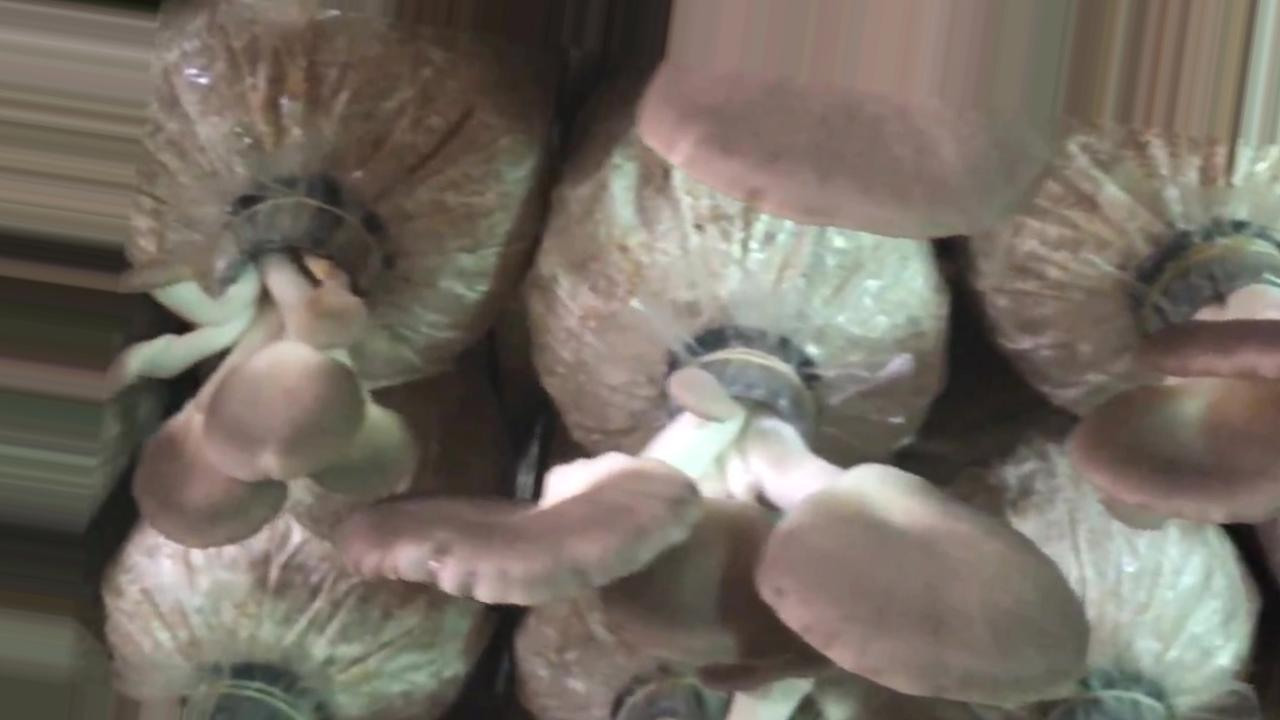nam: (318, 337, 1096, 717), (118, 180, 417, 553), (641, 42, 1032, 245), (1064, 221, 1280, 515)
